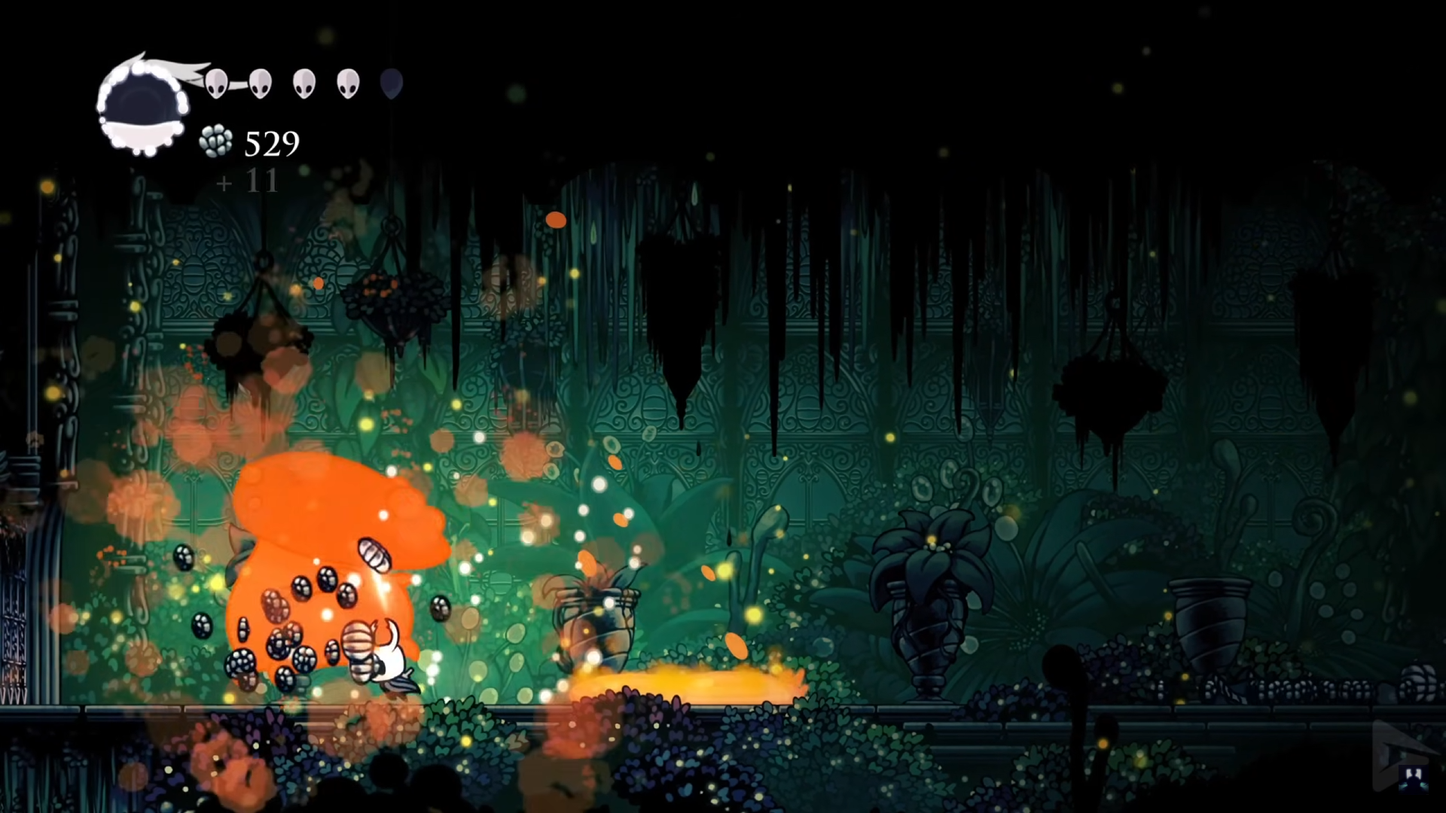HK: (355, 616, 417, 702)
